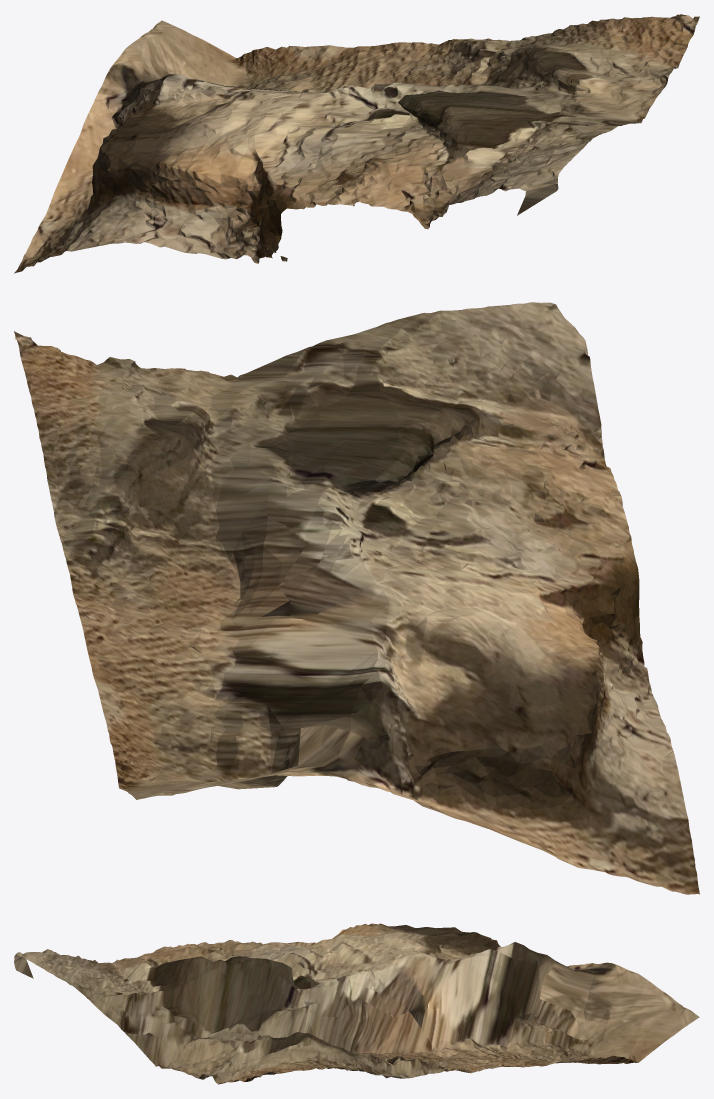
The model's file is tile_1_2.obj.
3 renders of one model, top to bottom at view 1: azimuth 30°, elevation 25°; view 2: azimuth 150°, elevation 25°; view 3: azimuth 270°, elevation 25°, orthographic. The views are drawn at different scales.
Parts seen in each view (by area): view 1: texture_0; view 2: texture_0; view 3: texture_0.
Boxes of the visible parts, x1=… form: texture_0: x1=14, y1=14, x2=699, y2=273; texture_0: x1=14, y1=302, x2=699, y2=894; texture_0: x1=14, y1=923, x2=699, y2=1084.
Size of the model in its own units: 0.4195 by 0.1273 by 0.43.
Materials: 1 (1 with a texture image).
